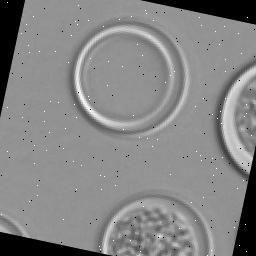picoshell: (71, 23, 190, 139), (99, 196, 214, 256), (217, 62, 256, 178), (0, 213, 26, 237)
